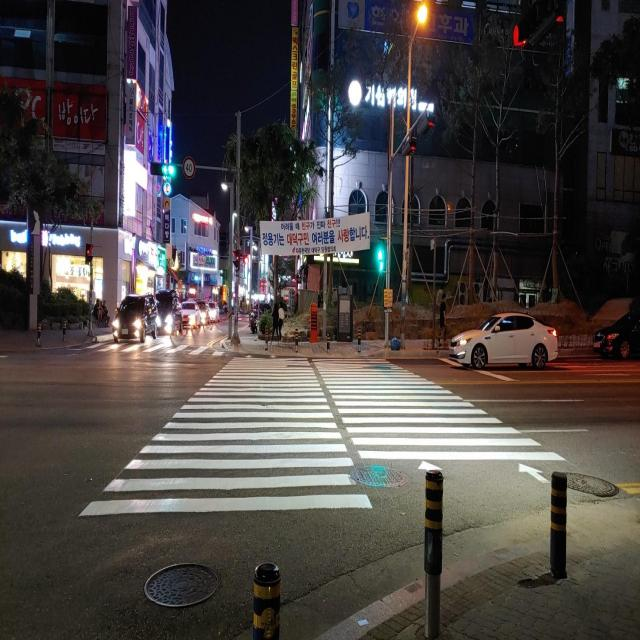횡단보도: (75, 349, 569, 520), (76, 344, 236, 354)
